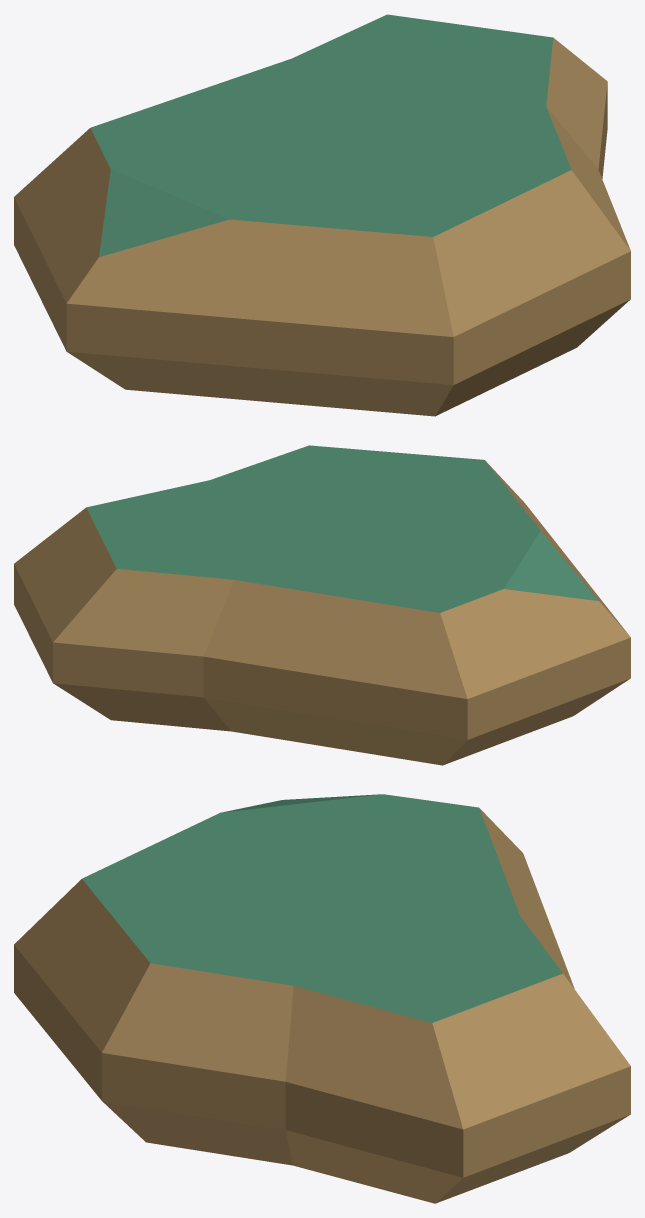
The model's file is naturePack_010.obj.
3 views of the same model, one above another, from view 1: azimuth 30°, elevation 25°; view 2: azimuth 150°, elevation 25°; view 3: azimuth 270°, elevation 25° (orthographic). The views are drawn at different scales.
Visible parts, largest first — view 1: Mesh1_Group1_Model.003; view 2: Mesh1_Group1_Model.003; view 3: Mesh1_Group1_Model.003.
Part boxes in pixels (x1,y1,x2,y2): Mesh1_Group1_Model.003: (14,14,630,416); Mesh1_Group1_Model.003: (14,445,630,765); Mesh1_Group1_Model.003: (14,794,630,1203).
Bounding box in the file's own units: 3.04 × 0.81 × 2.55.
